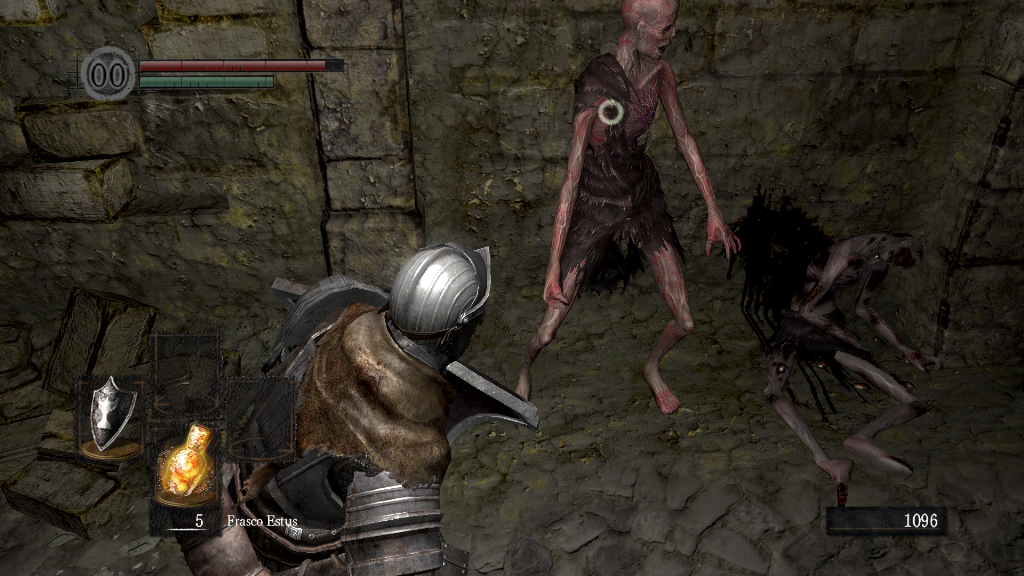health: (138, 58, 343, 71)
hollow: (515, 1, 743, 416)
humanity: (80, 45, 136, 102)
player: (168, 243, 541, 576)
souls: (825, 506, 945, 536)
stamina: (138, 74, 274, 88)
